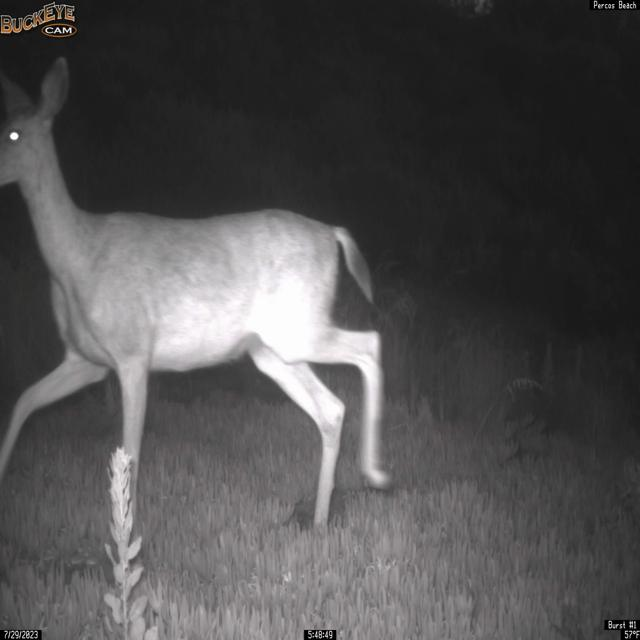deer: (0, 55, 394, 558)
